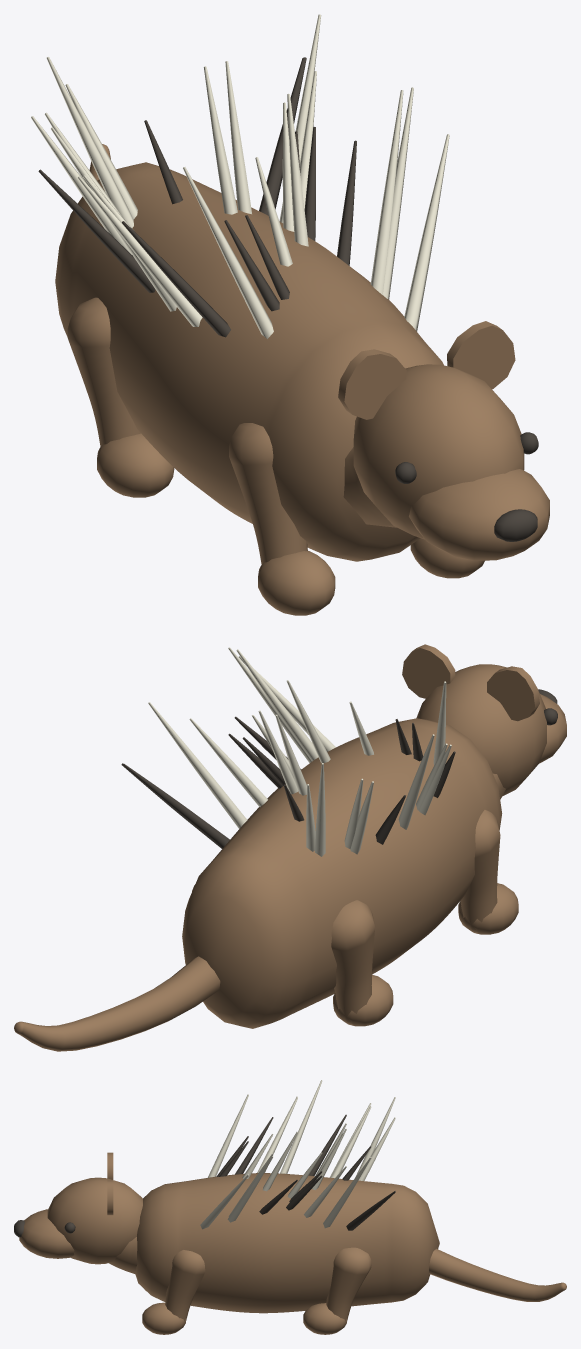
Rendered from rainforest-and-jungle-fauna-brush-tailed-porcupine-5dfd91c6__21672.glb.
3 renders of one model, top to bottom at view 1: azimuth 30°, elevation 25°; view 2: azimuth 150°, elevation 25°; view 3: azimuth 270°, elevation 25°, orthographic. The views are drawn at different scales.
Parts seen in each view (by area): view 1: brush-tailed-porcupine; view 2: brush-tailed-porcupine; view 3: brush-tailed-porcupine.
Part boxes in pixels (x1,y1,x2,y2): brush-tailed-porcupine: (31, 14, 549, 615); brush-tailed-porcupine: (14, 644, 566, 1051); brush-tailed-porcupine: (14, 1080, 566, 1334).
Size of the model in its own units: 0.2576 by 0.2912 by 0.75.
